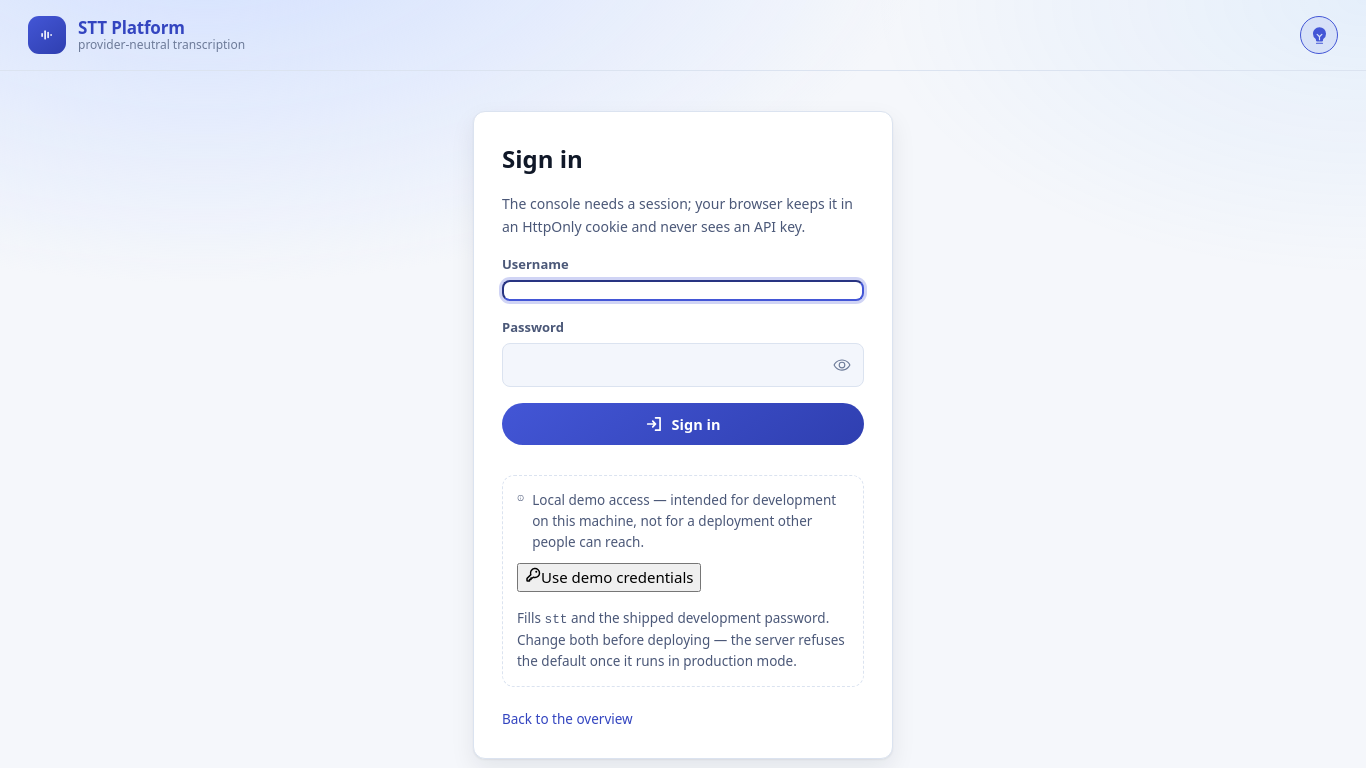
Test: one click fills the published demo credentials
The width and height of the screenshot is (1366, 768).
Click the button "Use demo credentials" at (609, 577), box x1=517 y1=563 x2=702 y2=592
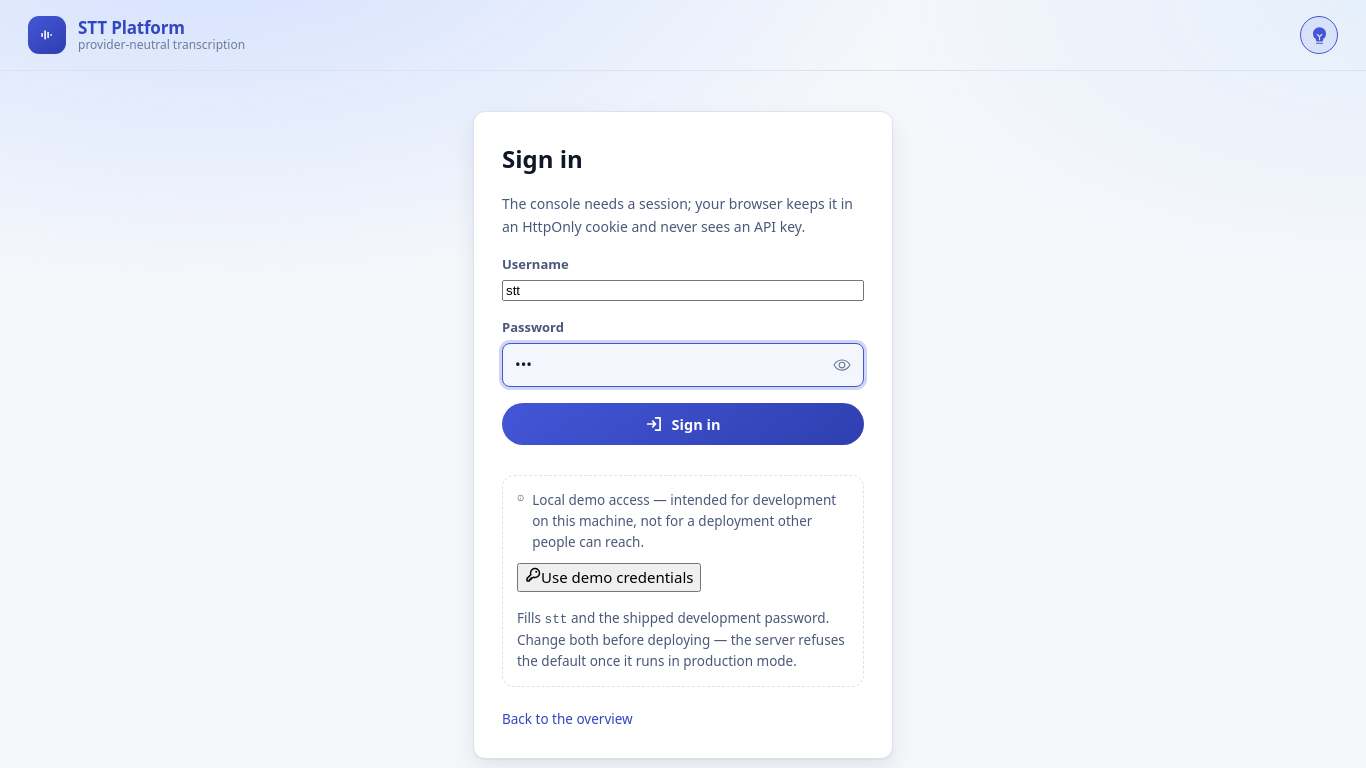
Expected: the field labelled "Username" holds "stt", x1=502 y1=280 x2=864 y2=301
Expected: the password field labelled "Password" holds "stt", x1=502 y1=343 x2=864 y2=387
